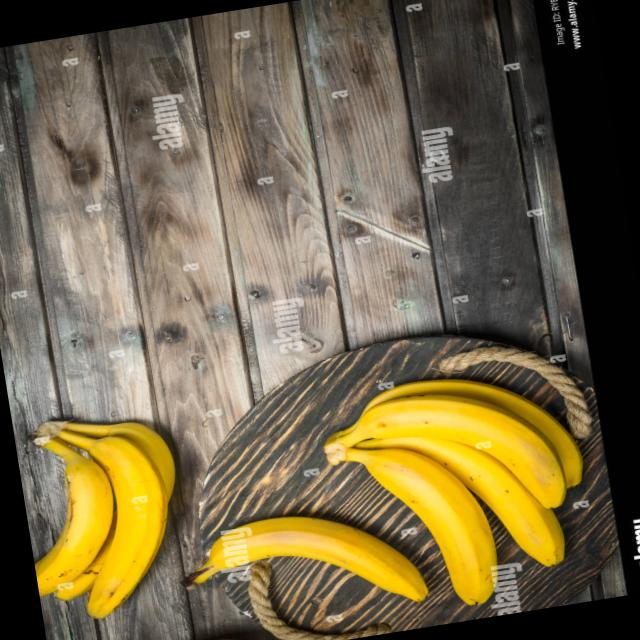Platano: (310, 351, 610, 628), (12, 394, 206, 630), (167, 491, 431, 640), (92, 625, 282, 640)
